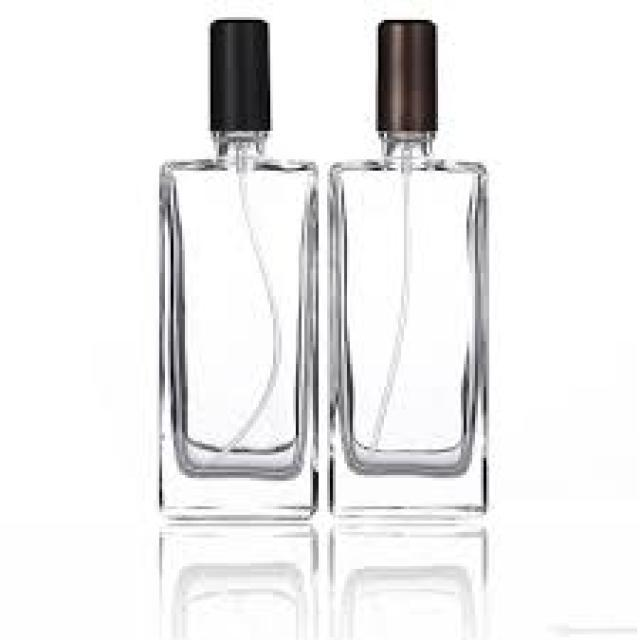Glass: (156, 141, 316, 523), (332, 153, 490, 518)
